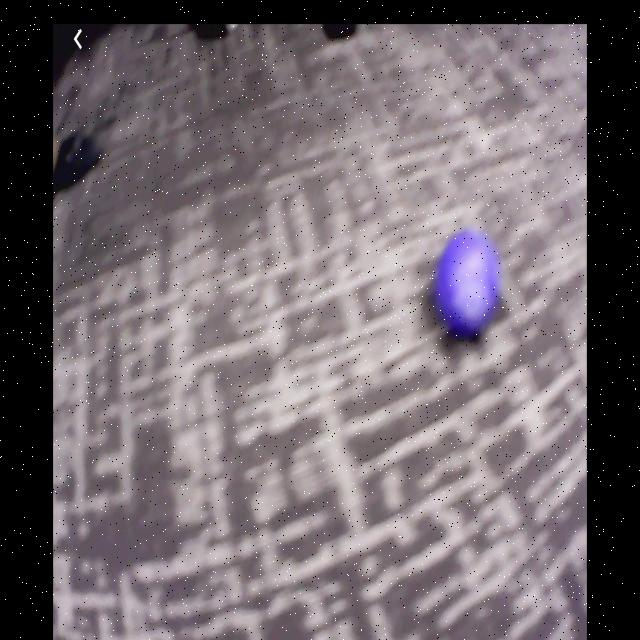ball: (436, 229, 503, 336)
